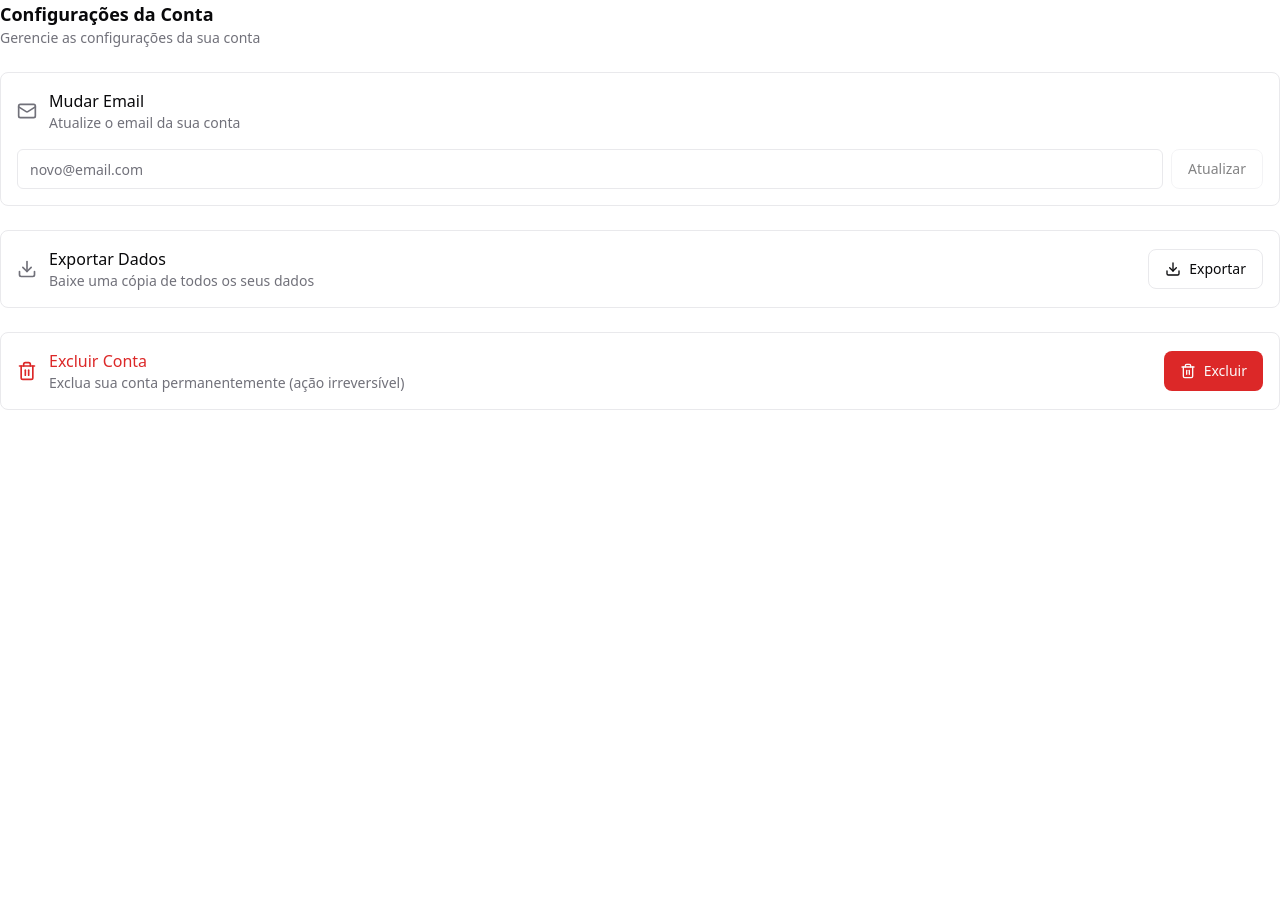
Scenario: AccountSettings › should open export modal when export button is clicked
The width and height of the screenshot is (1280, 900).
Click the button "Exportar" at [1206, 269], box x1=1148 y1=249 x2=1263 y2=289
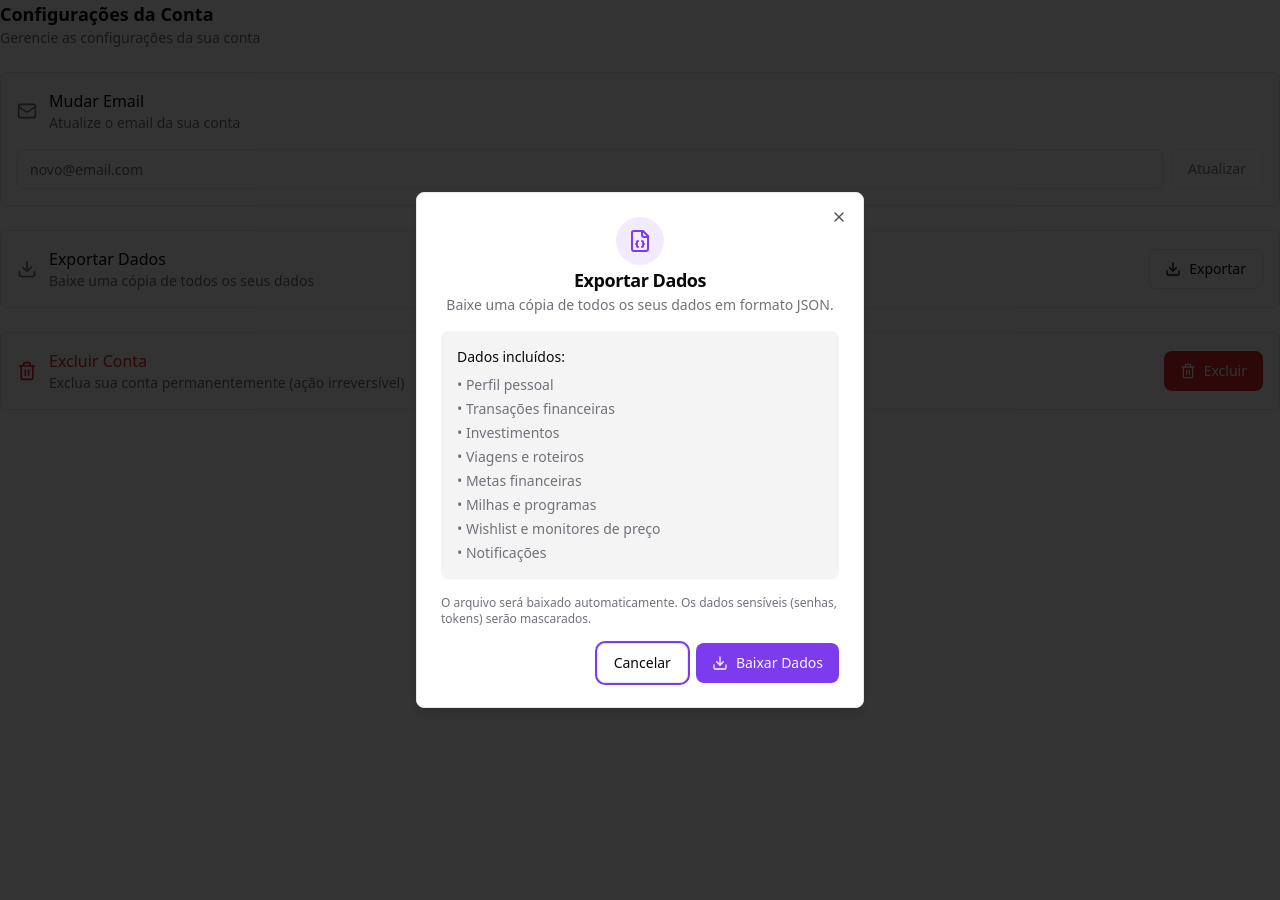
Expected: the dialog is shown, x1=416 y1=192 x2=864 y2=708
